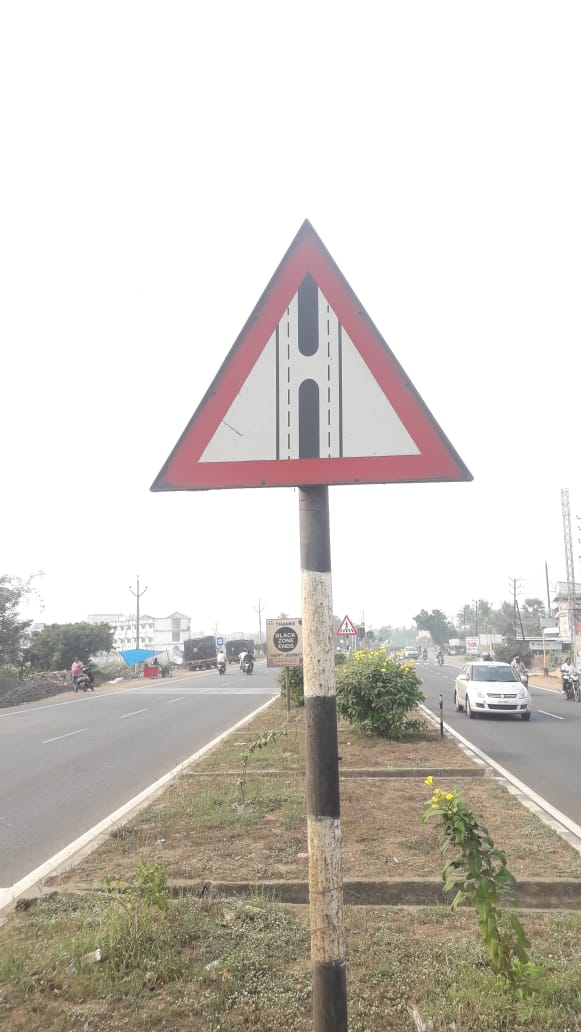highway go straight: (137, 206, 490, 526)
